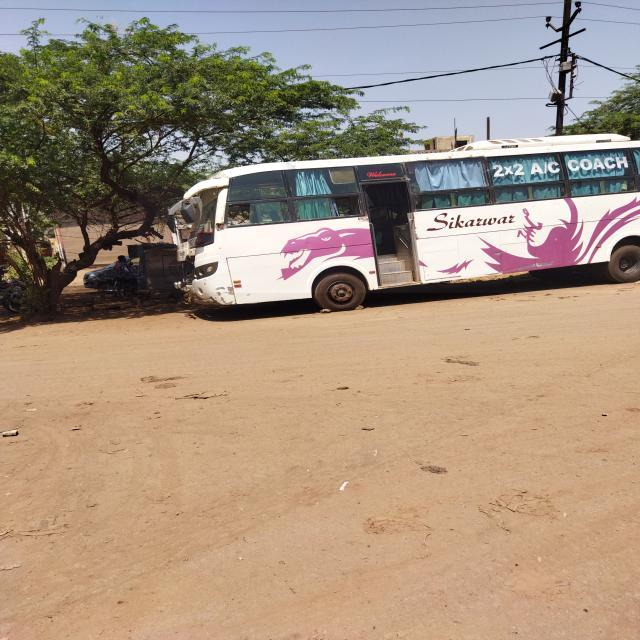Bus: (137, 163, 640, 293)
